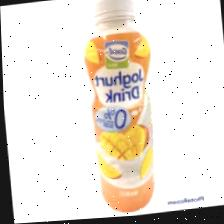plastic: (82, 0, 156, 213)
